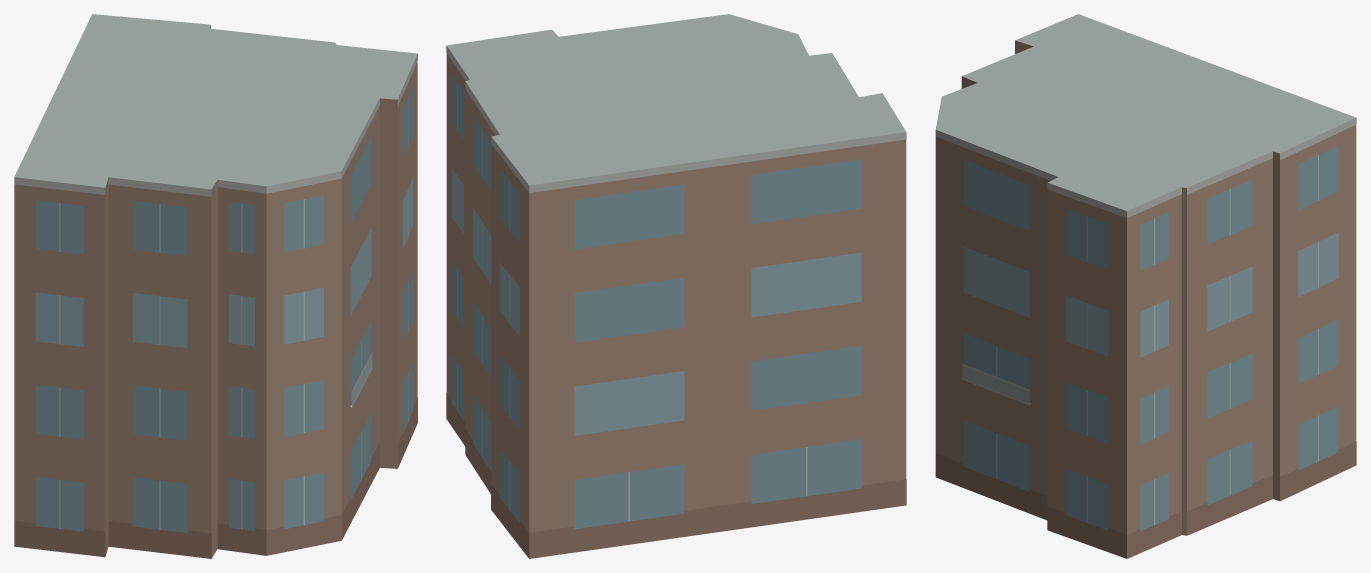
File: survey-upis-32993008.glb
The picture shows the model from 3 angles, left to right: view 1: azimuth 30°, elevation 25°; view 2: azimuth 150°, elevation 25°; view 3: azimuth 270°, elevation 25°; orthographic projection. The views are drawn at different scales.
Parts seen in each view (by area): view 1: survey-upis-32993008.tmp; view 2: survey-upis-32993008.tmp; view 3: survey-upis-32993008.tmp.
Part boxes in pixels (<box>): survey-upis-32993008.tmp: <box>14,14,417,558</box>; survey-upis-32993008.tmp: <box>446,14,906,558</box>; survey-upis-32993008.tmp: <box>935,14,1356,558</box>.
Bounding box in the file's own units: 15.1 × 12.4 × 13.61.
